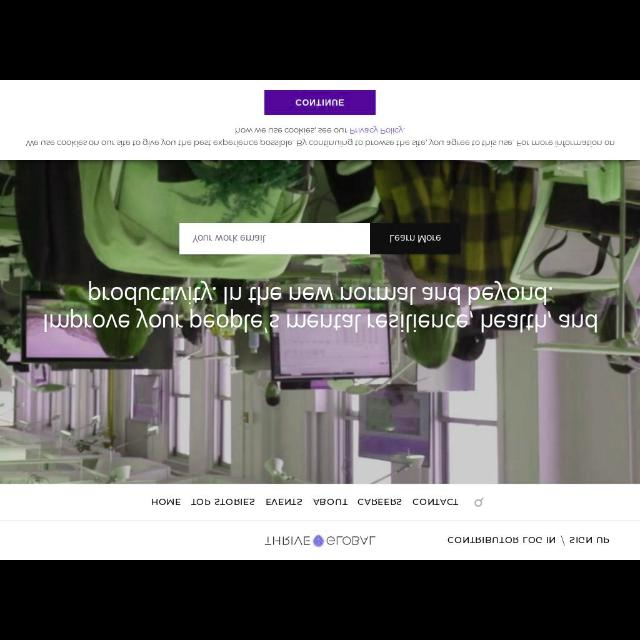backgroundimage: (1, 161, 639, 484)
icon: (473, 494, 487, 508)
image: (262, 532, 376, 550)
input: (178, 222, 370, 255)
link: (349, 125, 405, 135)
text: (40, 279, 602, 337), (25, 125, 617, 149), (444, 534, 612, 546), (190, 233, 268, 247), (191, 496, 257, 508), (388, 231, 444, 245), (356, 495, 404, 509), (296, 98, 344, 110), (413, 497, 459, 508), (312, 496, 350, 508), (264, 497, 304, 508), (150, 497, 182, 508)
textbutton: (264, 90, 376, 116), (372, 223, 460, 254)
toolbar: (1, 486, 639, 556)
